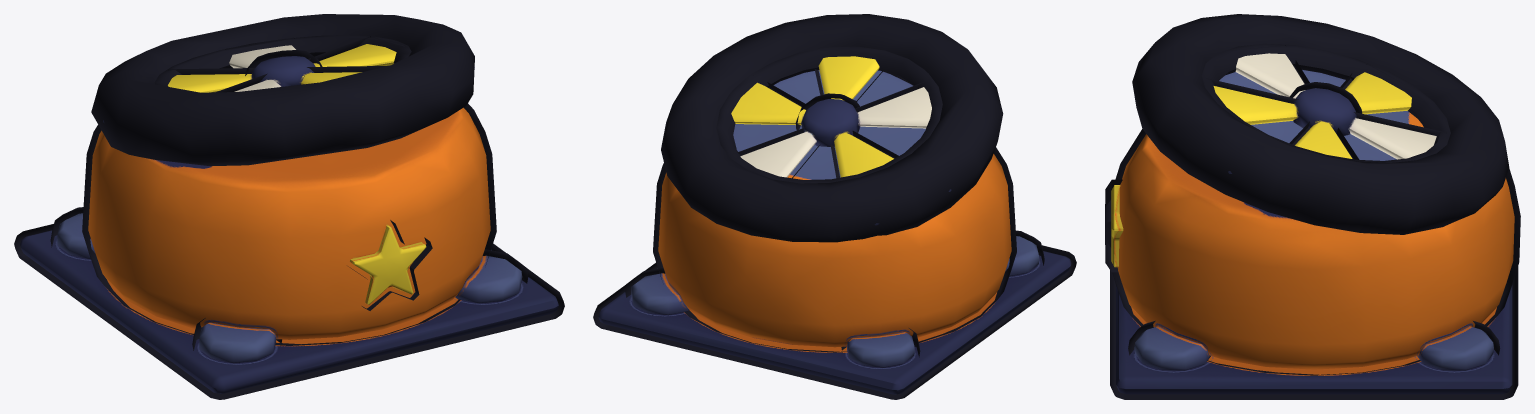
File: R4X_FlyingDroneDeployer_LOD1.fbx
The picture shows the model from 3 angles, left to right: view 1: azimuth 30°, elevation 25°; view 2: azimuth 150°, elevation 25°; view 3: azimuth 270°, elevation 25°; orthographic projection. The views are drawn at different scales.
Visible parts, largest first — view 1: R4X_FlyingDroneDeployer_LOD1; view 2: R4X_FlyingDroneDeployer_LOD1; view 3: R4X_FlyingDroneDeployer_LOD1.
Boxes of the visible parts, x1=… form: R4X_FlyingDroneDeployer_LOD1: x1=14, y1=14, x2=564, y2=399; R4X_FlyingDroneDeployer_LOD1: x1=593, y1=14, x2=1076, y2=399; R4X_FlyingDroneDeployer_LOD1: x1=1105, y1=14, x2=1520, y2=399.
Bounding box in the file's own units: 0.4973 × 0.3499 × 0.5039.
2 materials, 1 textured.
